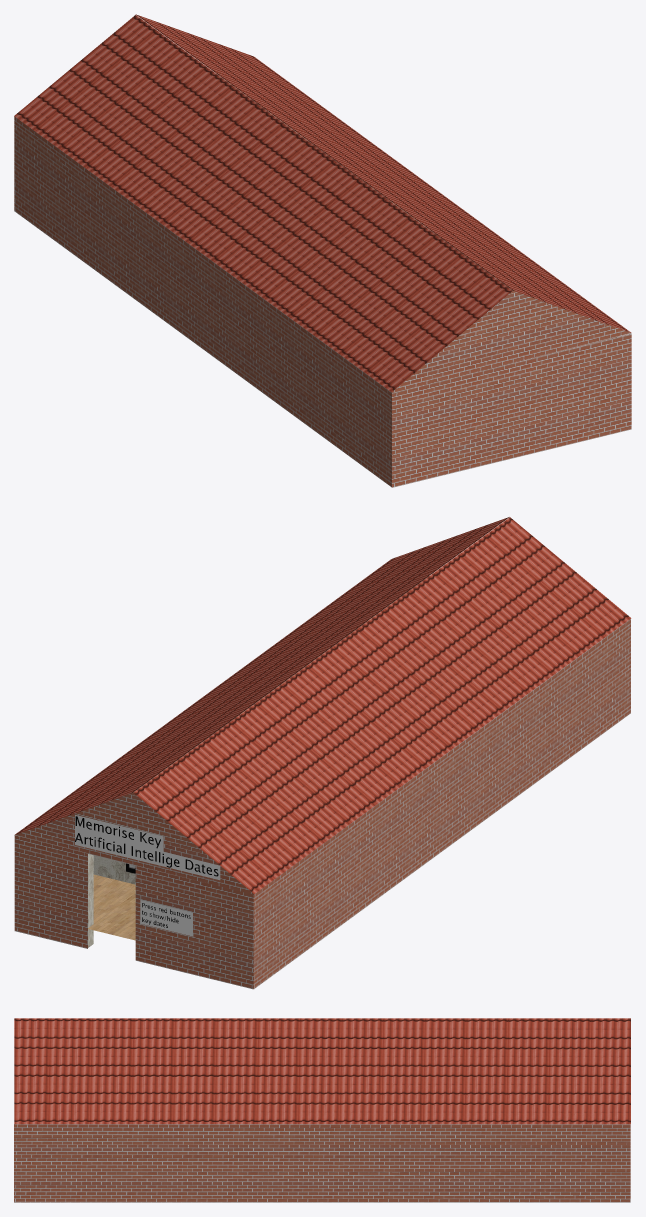
Rendered from walls_124.gltf.
The picture shows the model from 3 angles, top to bottom: view 1: azimuth 30°, elevation 25°; view 2: azimuth 150°, elevation 25°; view 3: azimuth 270°, elevation 25°; orthographic projection. The views are drawn at different scales.
Parts seen in each view (by area): view 1: polySurface4270; view 2: polySurface4270, pCube268, polySurface4232, walls_121, pCube269, typeMesh46; view 3: polySurface4270.
Part boxes in pixels (x1,y1,x2,y2): polySurface4270: [14, 14, 631, 487]; polySurface4270: [14, 517, 631, 989]; pCube268: [75, 815, 220, 880]; polySurface4232: [88, 874, 135, 940]; walls_121: [88, 576, 428, 947]; pCube269: [140, 900, 192, 936]; typeMesh46: [75, 816, 218, 876]; polySurface4270: [14, 1018, 630, 1202].
Size of what is drawn, in the model's own units: 15.98 by 10.69 by 43.48.
Materials: 16 (12 with a texture image).
